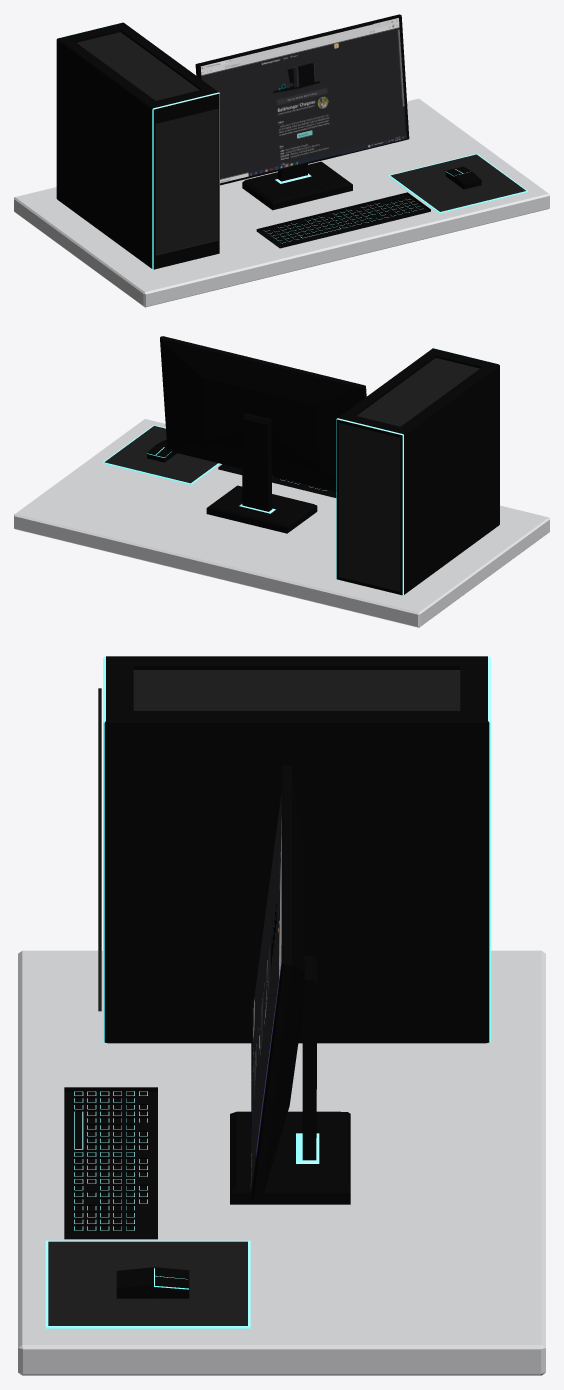
File: desktop_setup.glb
3 views of the same model, one above another, from view 1: azimuth 30°, elevation 25°; view 2: azimuth 150°, elevation 25°; view 3: azimuth 270°, elevation 25° (orthographic). The views are drawn at different scales.
Visible parts, largest first — view 1: cpu, table, Capture, monitor, Plane, keyboard, mouse; view 2: table, cpu, monitor, Plane, keyboard, mouse; view 3: table, cpu, monitor, Plane, keyboard, Capture, mouse.
Boxes of the visible parts, x1=… form: cpu: x1=56, y1=22, x2=219, y2=269; table: x1=14, y1=98, x2=549, y2=307; Capture: x1=200, y1=18, x2=406, y2=183; monitor: x1=195, y1=14, x2=409, y2=210; Plane: x1=388, y1=153, x2=528, y2=213; keyboard: x1=256, y1=192, x2=430, y2=248; mouse: x1=445, y1=166, x2=481, y2=189; table: x1=14, y1=419, x2=549, y2=627; cpu: x1=336, y1=348, x2=499, y2=595; monitor: x1=160, y1=336, x2=366, y2=533; Plane: x1=102, y1=425, x2=219, y2=484; keyboard: x1=218, y1=464, x2=336, y2=497; mouse: x1=147, y1=440, x2=177, y2=462; table: x1=18, y1=950, x2=545, y2=1375; cpu: x1=98, y1=656, x2=490, y2=1043; monitor: x1=230, y1=764, x2=350, y2=1204; Plane: x1=45, y1=1240, x2=250, y2=1328; keyboard: x1=64, y1=1087, x2=157, y2=1239; Capture: x1=250, y1=793, x2=281, y2=1194; mouse: x1=116, y1=1267, x2=189, y2=1298.
Bounding box in the file's own units: 5.28 × 2.19 × 2.97.
Materials: 6 (1 with a texture image).
